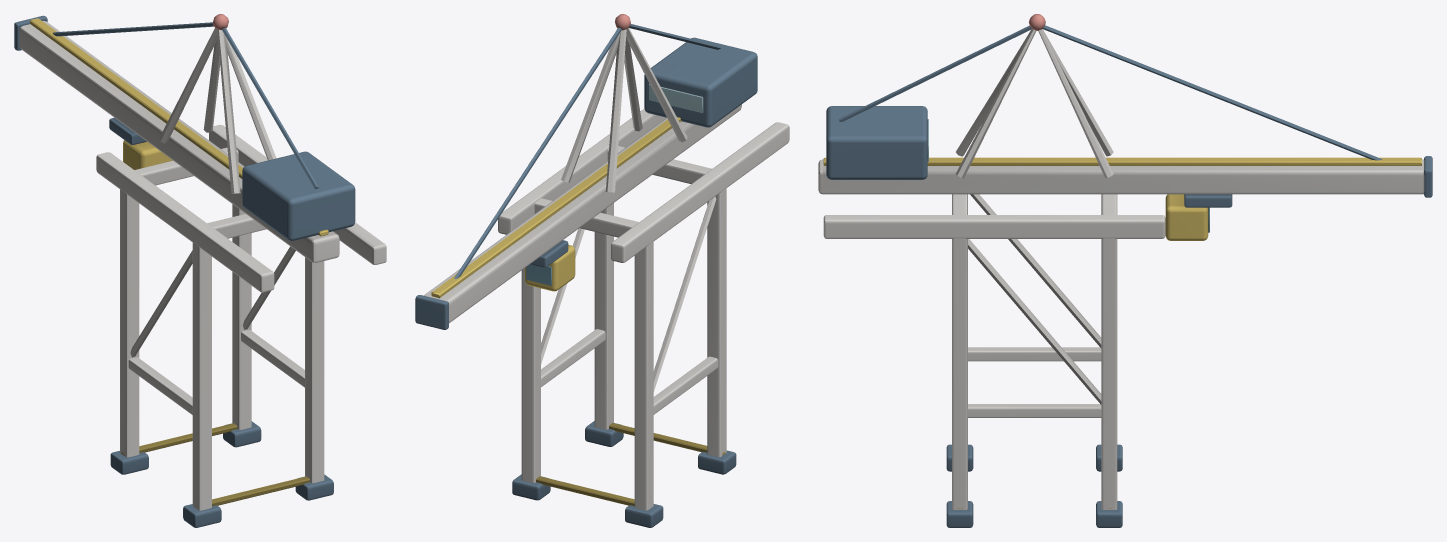
File: crane.glb
3 views of the same model, side by side, from view 1: azimuth 30°, elevation 25°; view 2: azimuth 150°, elevation 25°; view 3: azimuth 270°, elevation 25° (orthographic). The views are drawn at different scales.
Parts seen in each view (by area): view 1: crane; view 2: crane; view 3: crane.
Part boxes in pixels (x1,y1,x2,y2): crane: [14, 14, 386, 527]; crane: [415, 14, 789, 527]; crane: [818, 14, 1432, 527].
Size of the model in its own units: 3.12 by 9.9 by 11.5.
